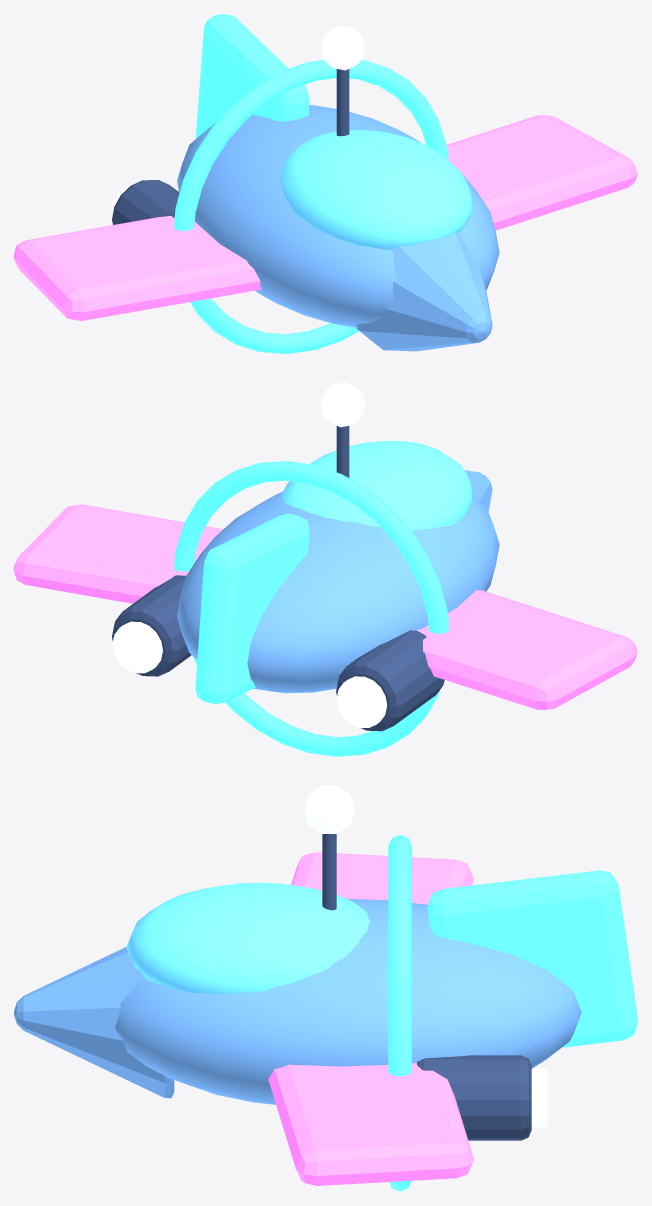
Rendered from aurora_drone.glb.
3 views of the same model, one above another, from view 1: azimuth 30°, elevation 25°; view 2: azimuth 150°, elevation 25°; view 3: azimuth 270°, elevation 25° (orthographic). The views are drawn at different scales.
Parts seen in each view (by area): view 1: aurora_drone_MobileMesh; view 2: aurora_drone_MobileMesh; view 3: aurora_drone_MobileMesh.
Part boxes in pixels (x1,y1,x2,y2): aurora_drone_MobileMesh: [14, 14, 637, 353]; aurora_drone_MobileMesh: [14, 382, 637, 756]; aurora_drone_MobileMesh: [14, 785, 637, 1191].
Size of the model in its own units: 3.47 by 2 by 2.92.
